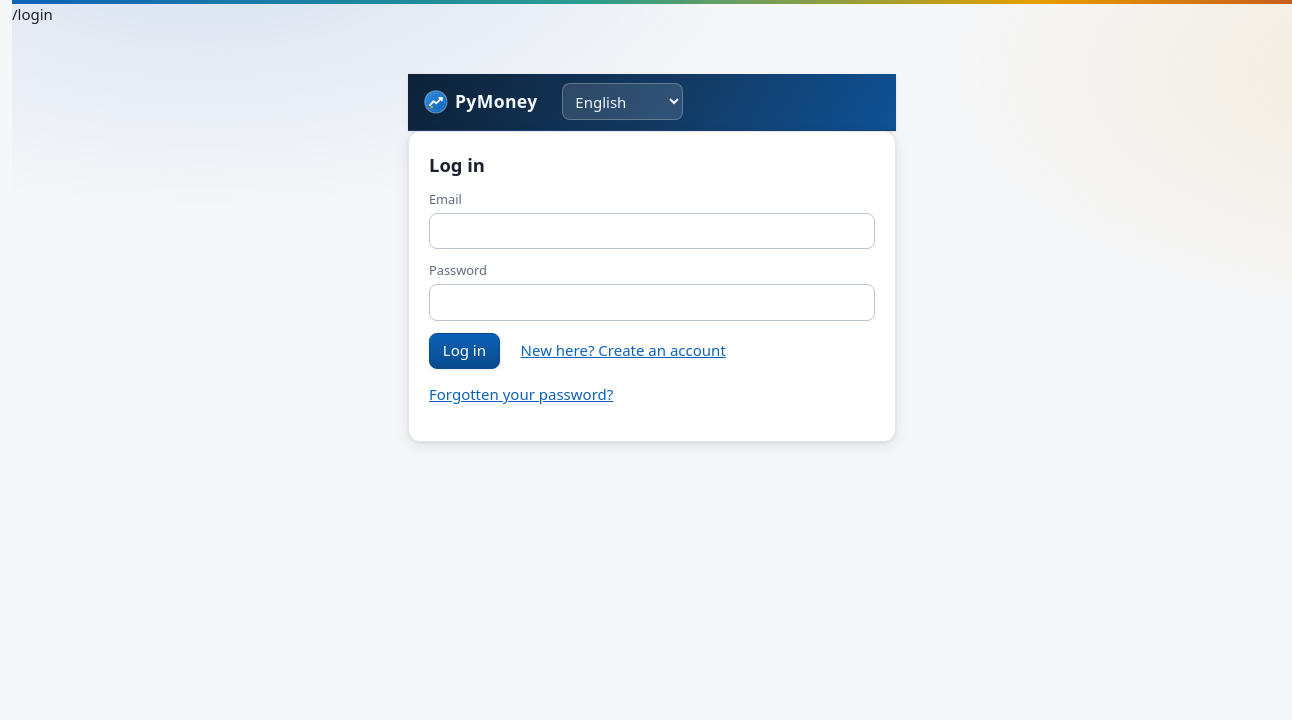
it: registering with activation required › explains a pending account that tries to log in
In the field labelled "Email": (652, 231) [429,213,875,250], type "new@example.com"
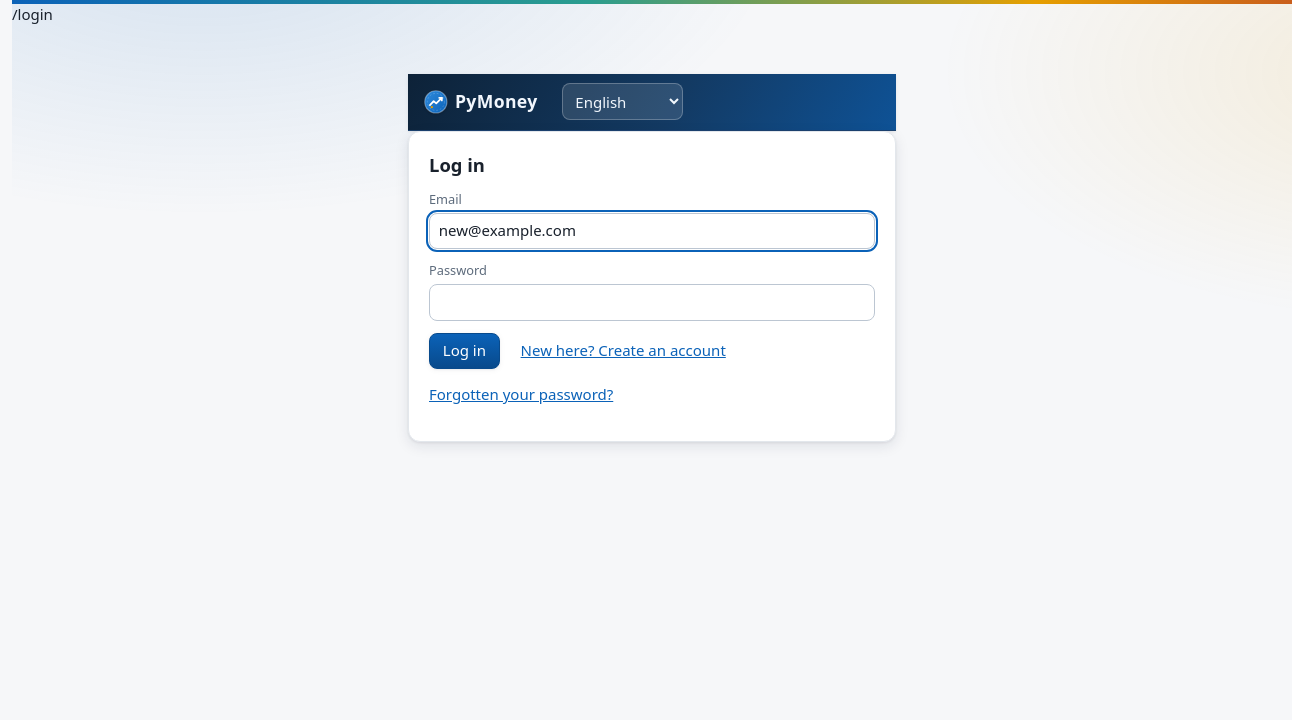
In the password field labelled "Password": (652, 302) [429,284,875,320], type "correct horse battery staple"
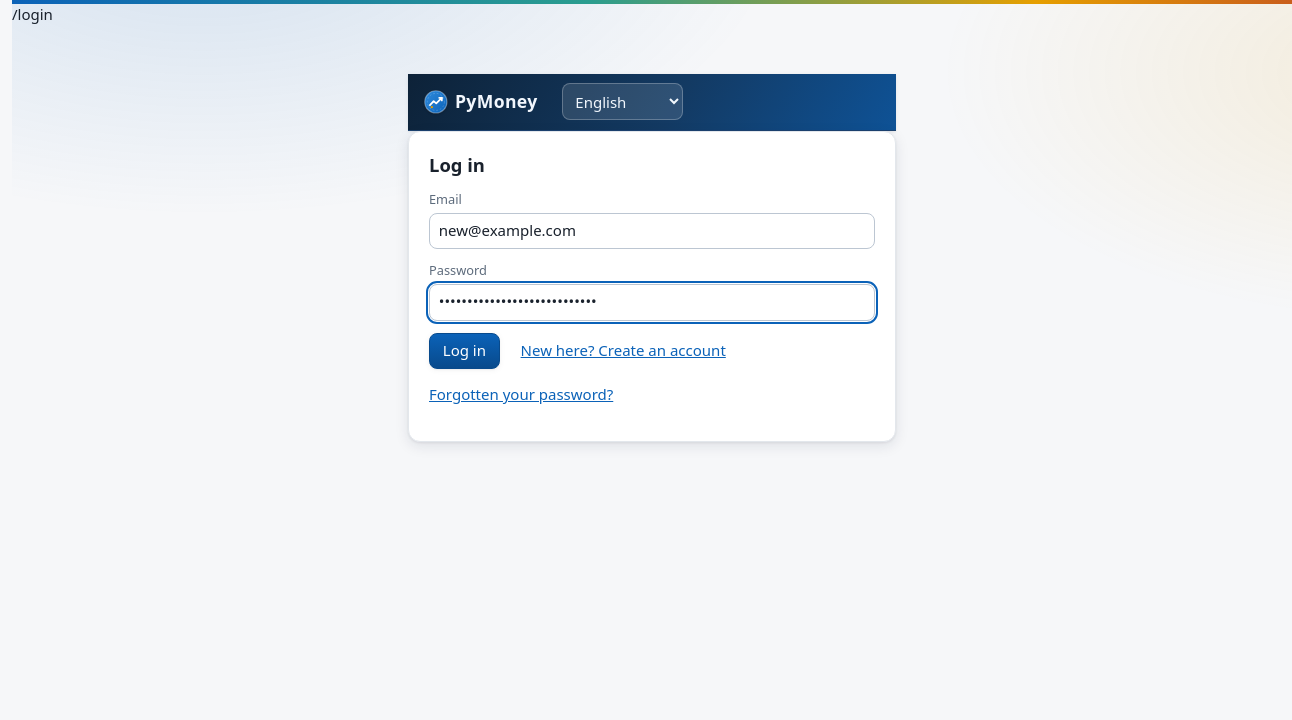
Click the button "Log in": (464, 351) [429,333,500,369]
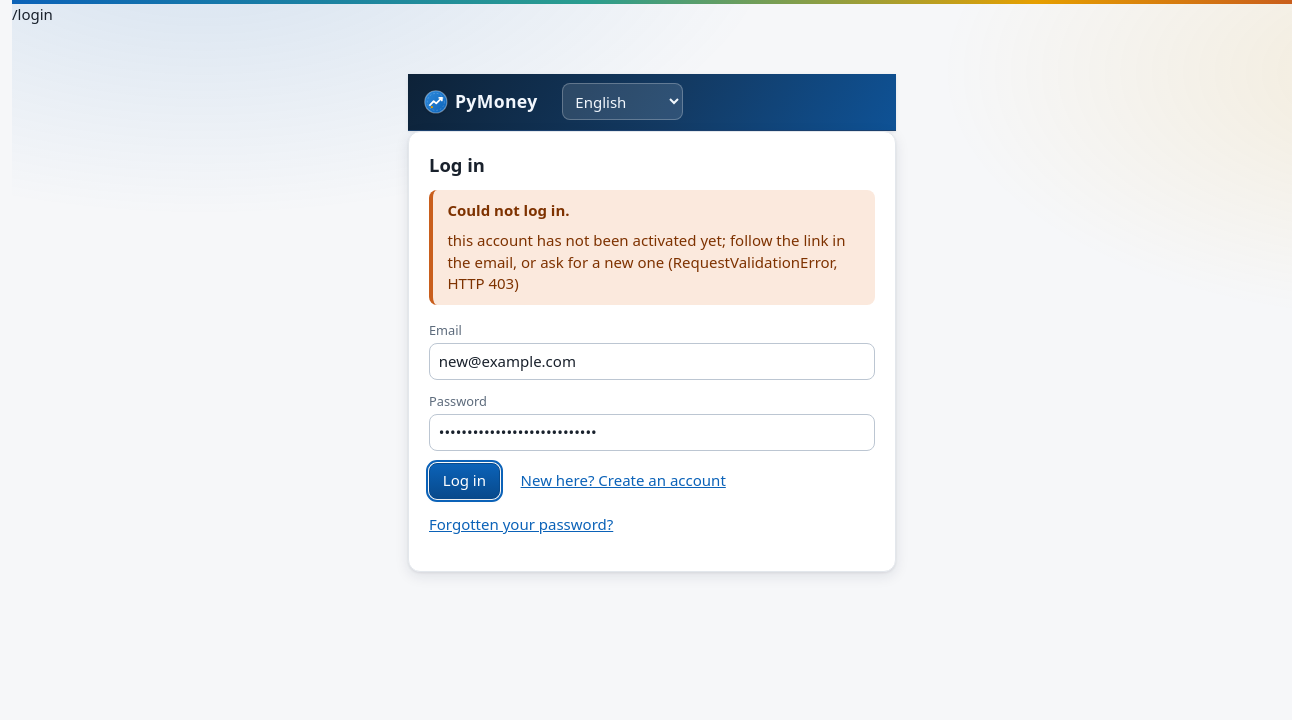
Check: the message shows "not been activated yet", box [447,230,846,293]
